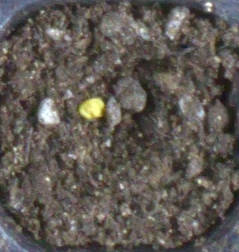chilli seed: (77, 97, 105, 119)
